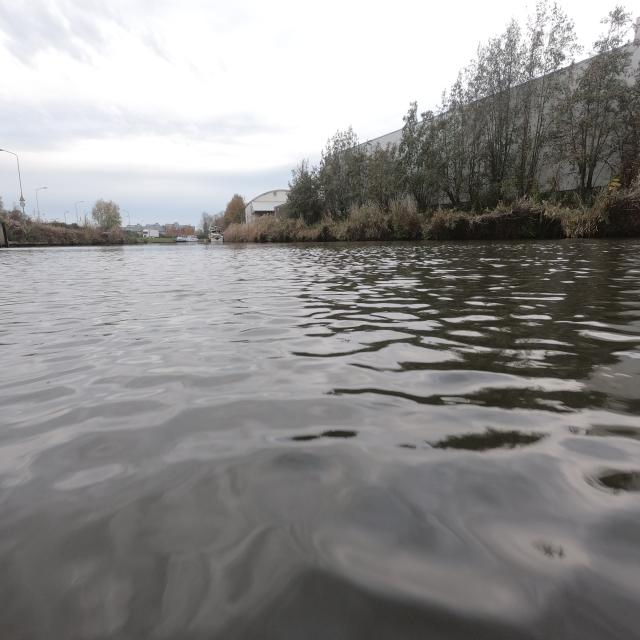reed: (230, 194, 628, 243), (1, 208, 122, 246)
sky: (4, 1, 513, 222)
tree: (287, 1, 640, 223)
water: (1, 234, 639, 638)
